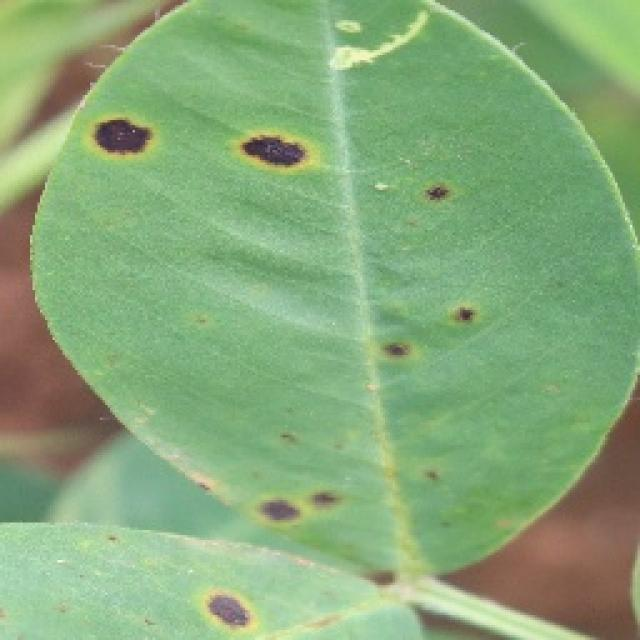Early_leaf_spot: (254, 442, 344, 548), (220, 109, 303, 217), (75, 110, 169, 181), (189, 565, 263, 640), (428, 254, 491, 334), (354, 546, 423, 610), (363, 313, 420, 369), (410, 169, 460, 227)
